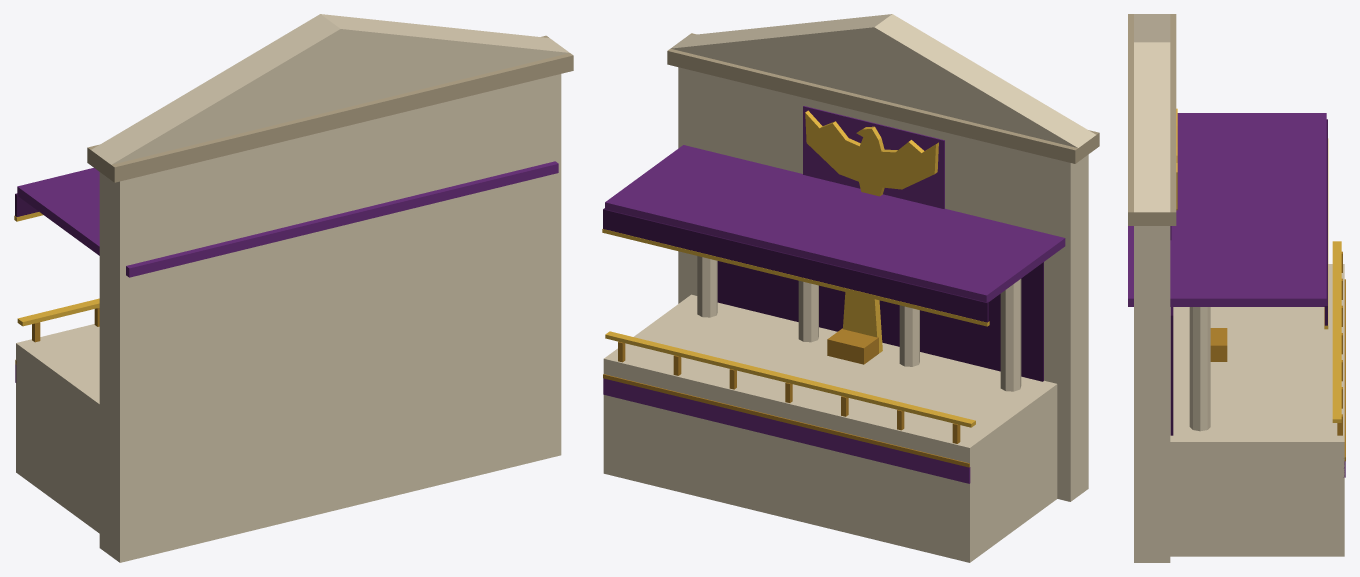
The model's file is SM_Pulvinar.fbx.
3 renders of one model, left to right at view 1: azimuth 30°, elevation 25°; view 2: azimuth 150°, elevation 25°; view 3: azimuth 270°, elevation 25°, orthographic. The views are drawn at different scales.
Visible parts, largest first — view 1: SM_Pulvinar; view 2: SM_Pulvinar; view 3: SM_Pulvinar.
Part boxes in pixels (x1,y1,x2,y2): SM_Pulvinar: [14, 14, 573, 562]; SM_Pulvinar: [602, 14, 1099, 562]; SM_Pulvinar: [1128, 14, 1345, 562].
Bounding box in the file's own units: 15.6 × 7.24 × 15.6.
